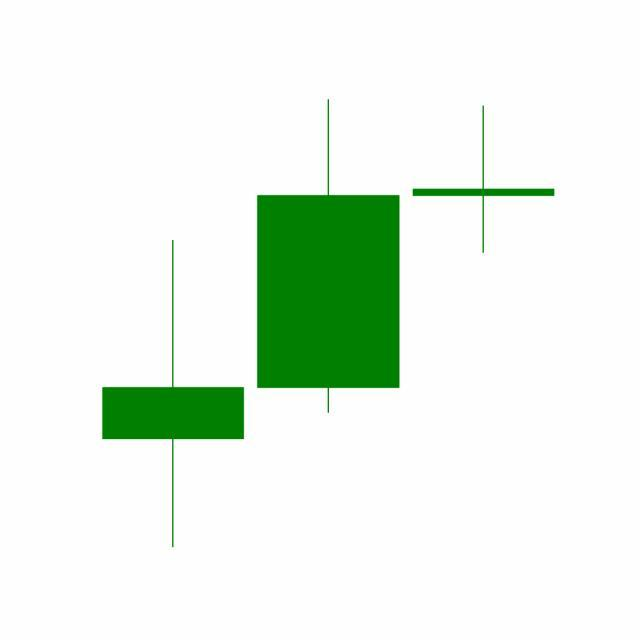Spinning Top: (406, 105, 562, 256)
